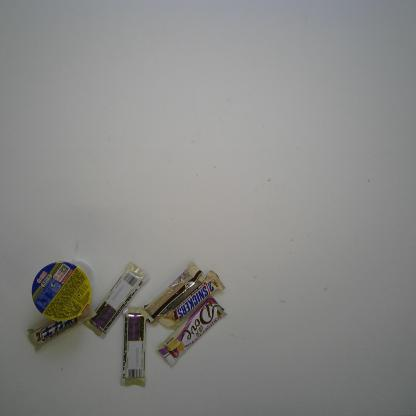Chocolate: (82, 262, 151, 342), (154, 295, 228, 368), (136, 257, 204, 329), (154, 268, 228, 330), (26, 298, 99, 354), (119, 306, 148, 390)
Instant Noodles: (28, 258, 94, 324)
